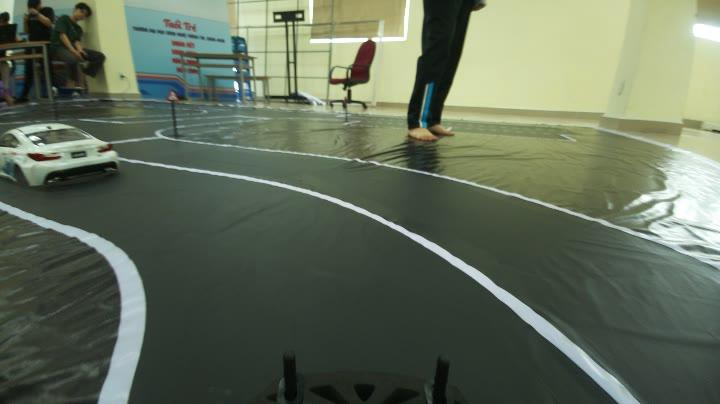car: (2, 111, 125, 198)
